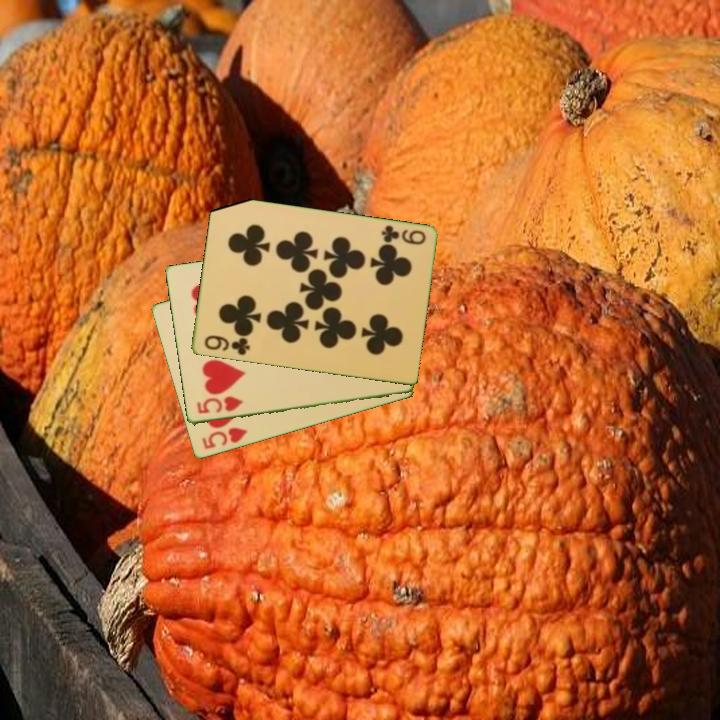5h: (198, 424, 250, 452), (193, 393, 245, 417)
9c: (200, 332, 253, 359), (378, 222, 428, 248)
